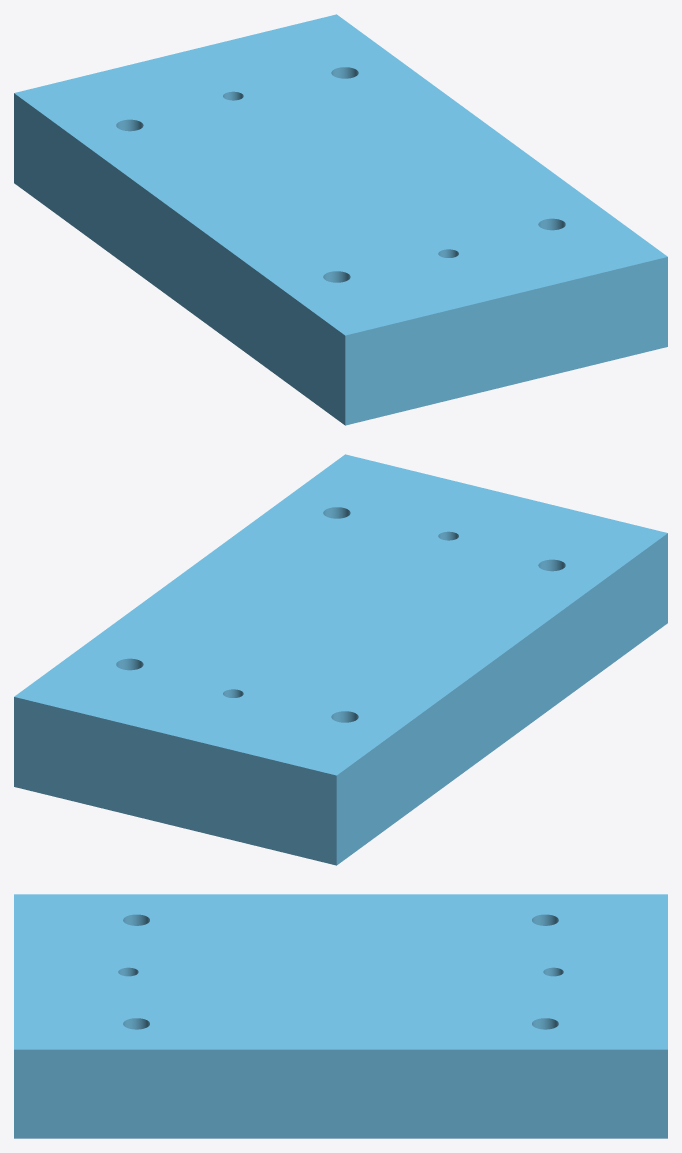
Rendered from FX104-C01_P0.1_fabrication_candidate.glb.
The picture shows the model from 3 angles, top to bottom: view 1: azimuth 30°, elevation 25°; view 2: azimuth 150°, elevation 25°; view 3: azimuth 270°, elevation 25°; orthographic projection.
Parts seen in each view (by area): view 1: FX104_C01_6061_T651_CANDIDATE; view 2: FX104_C01_6061_T651_CANDIDATE; view 3: FX104_C01_6061_T651_CANDIDATE.
Part boxes in pixels (x1,y1,x2,y2): FX104_C01_6061_T651_CANDIDATE: (14,14,667,425); FX104_C01_6061_T651_CANDIDATE: (14,454,667,865); FX104_C01_6061_T651_CANDIDATE: (14,894,667,1138).
Bounding box in the file's own units: 90 × 24 × 160.
